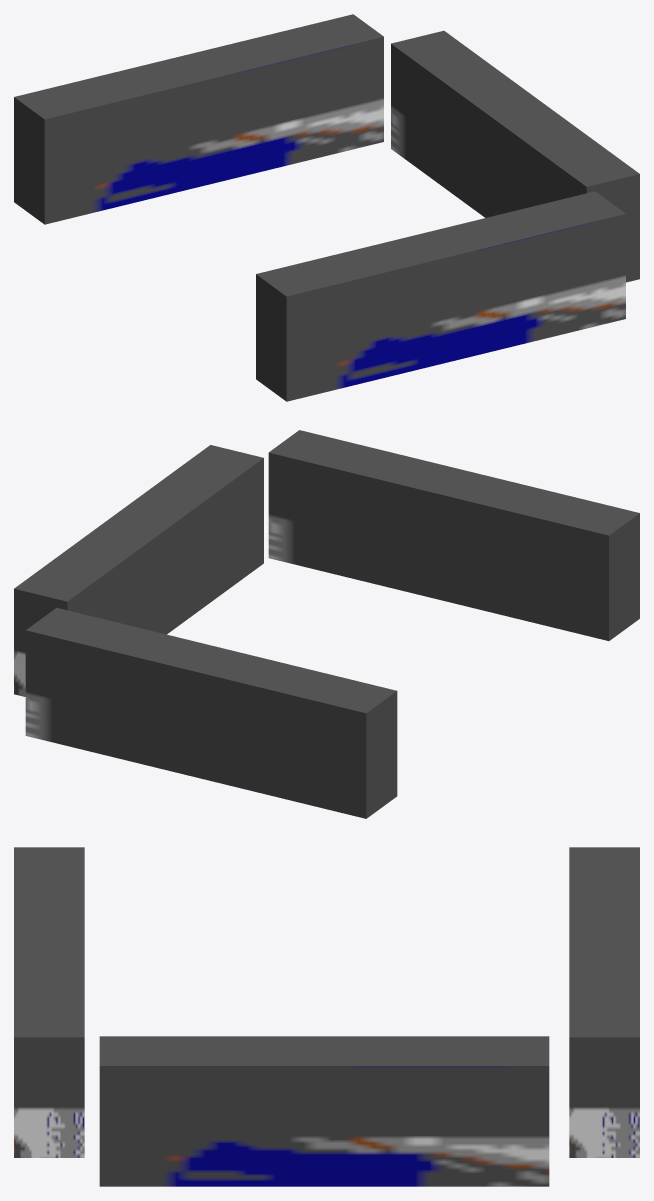
The picture shows the model from 3 angles, top to bottom: view 1: azimuth 30°, elevation 25°; view 2: azimuth 150°, elevation 25°; view 3: azimuth 270°, elevation 25°; orthographic projection. The views are drawn at different scales.
Visible parts, largest first — view 1: collision, collision.002, collision.001; view 2: collision, collision.002, collision.001; view 3: collision.001, collision, collision.002.
Boxes of the visible parts, x1,y1,x2,y2 form: collision: (14,14,383,224); collision.002: (256,191,625,401); collision.001: (391,30,639,282); collision: (25,607,397,818); collision.002: (268,430,639,640); collision.001: (14,445,263,696); collision.001: (99,1036,549,1186); collision: (569,847,639,1157); collision.002: (14,847,84,1157).
Size of the model in its own units: 8.81 by 2.27 by 10.65.
Materials: 1 (1 with a texture image).
